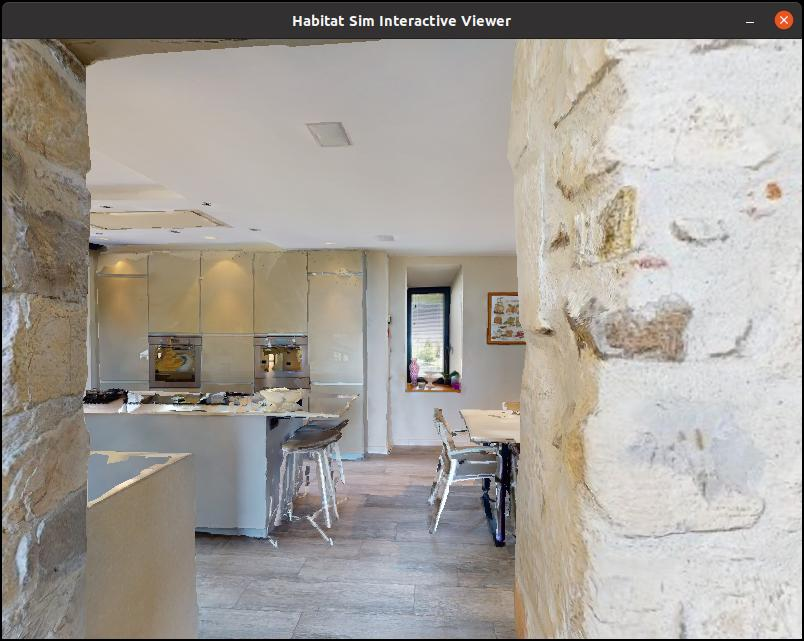chair: (415, 407, 513, 554), (260, 413, 365, 549)
door-frame: (0, 42, 659, 641)
table: (78, 369, 385, 448)
